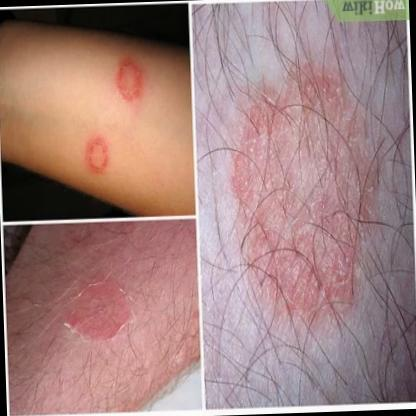Ringworm: (227, 61, 389, 332), (60, 268, 140, 354), (114, 56, 145, 106), (84, 134, 112, 179)
